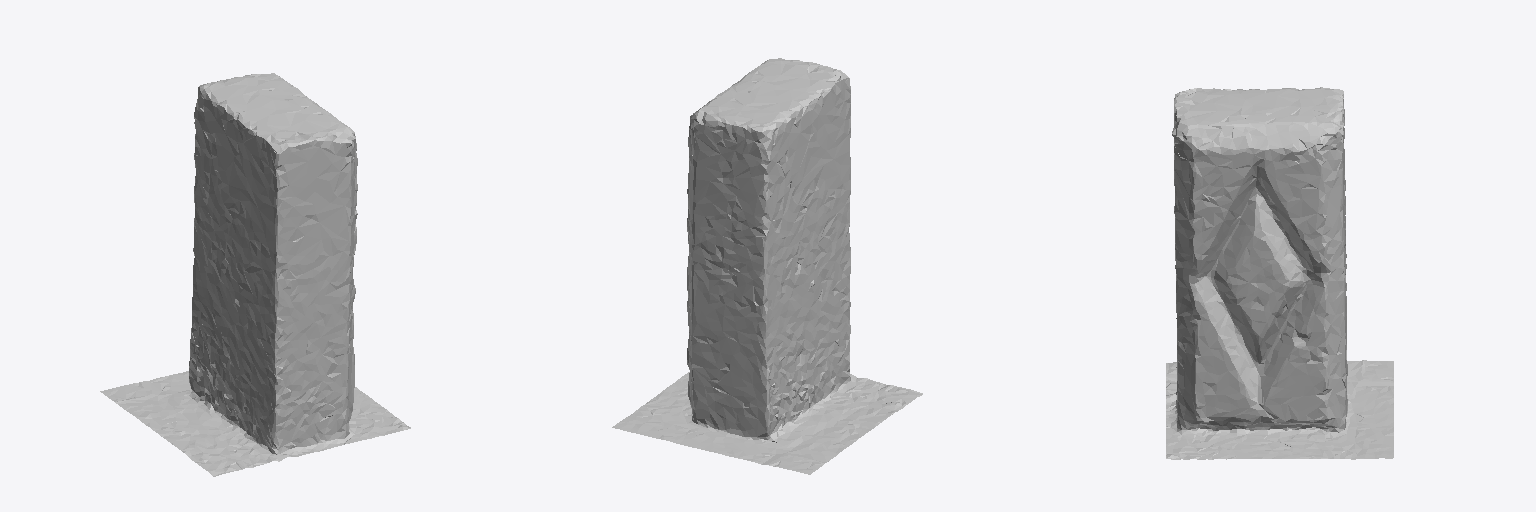
Rendered from 3DModel_LowPoly.obj.
The picture shows the model from 3 angles: view 1: azimuth 30°, elevation 25°; view 2: azimuth 150°, elevation 25°; view 3: azimuth 270°, elevation 25°; orthographic projection.
Visible parts, largest first — view 1: 3DModel_LowPoly; view 2: 3DModel_LowPoly; view 3: 3DModel_LowPoly.
Boxes of the visible parts, box(x1,y1,x2,y2) form: 3DModel_LowPoly: box(100, 73, 410, 476); 3DModel_LowPoly: box(612, 58, 922, 474); 3DModel_LowPoly: box(1166, 87, 1393, 459).
Bounding box in the file's own units: 1.9 × 2.86 × 1.9.